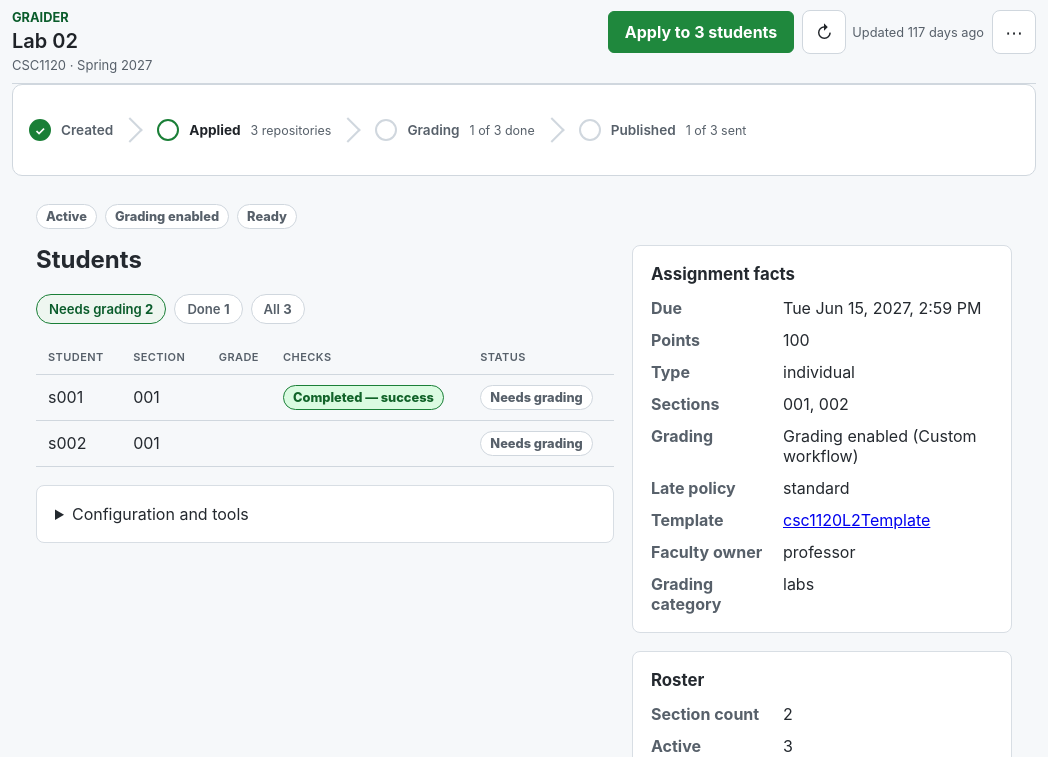
Test: AssignmentDetailPage › refreshes from not applied to applied and then prepares current template-sync state
Expected: the button "Apply to 3 students" is shown, [608,11,794,53]
Click the button named "Refresh assignment detail".
click(824, 32)  # box [802,10,846,54]
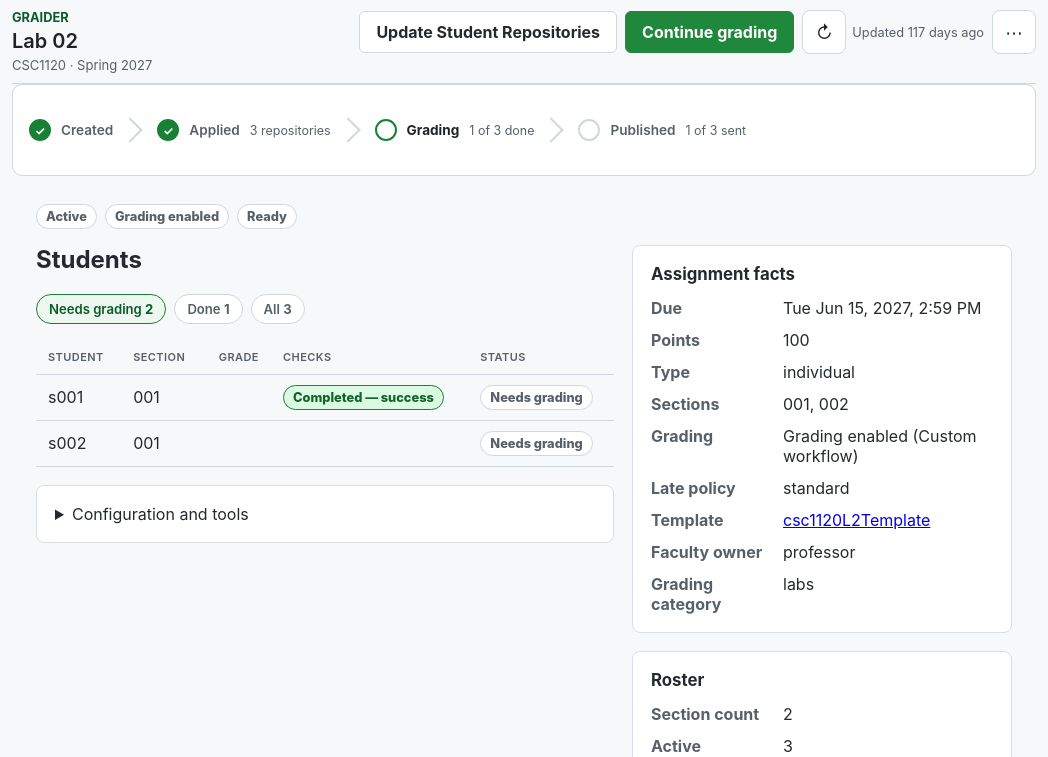
Result: the button "Update Student Repositories" is enabled at [359,11,617,53]
